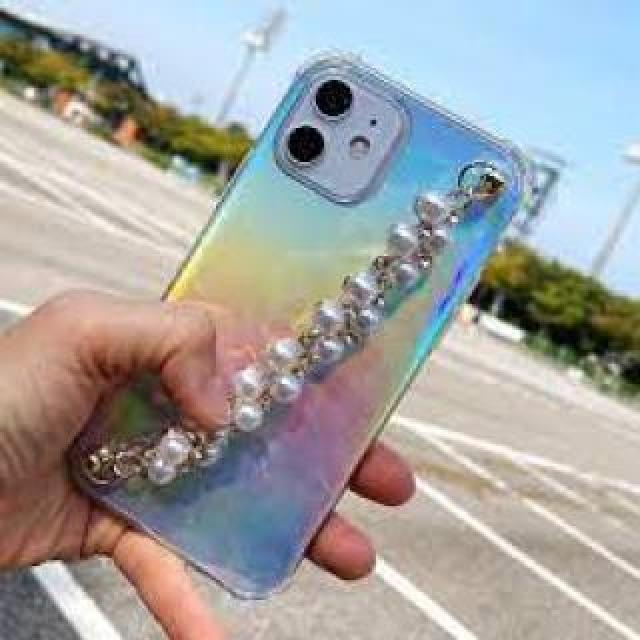smart phone: (43, 47, 552, 560)
